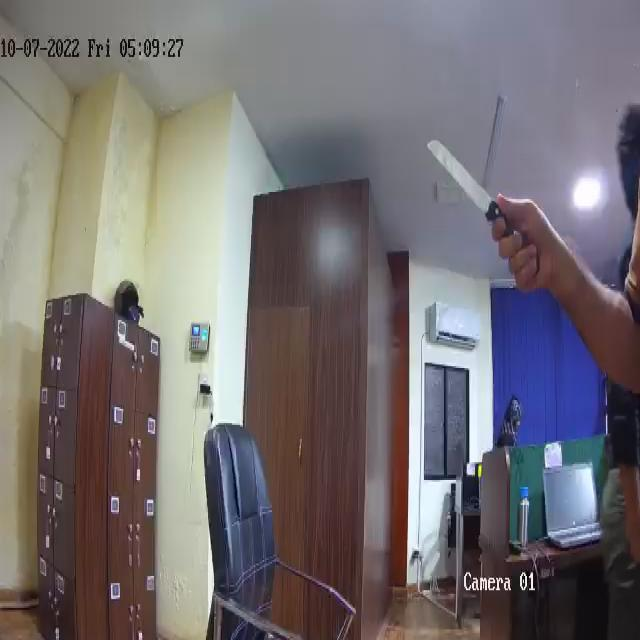Knife: (425, 133, 539, 284)
